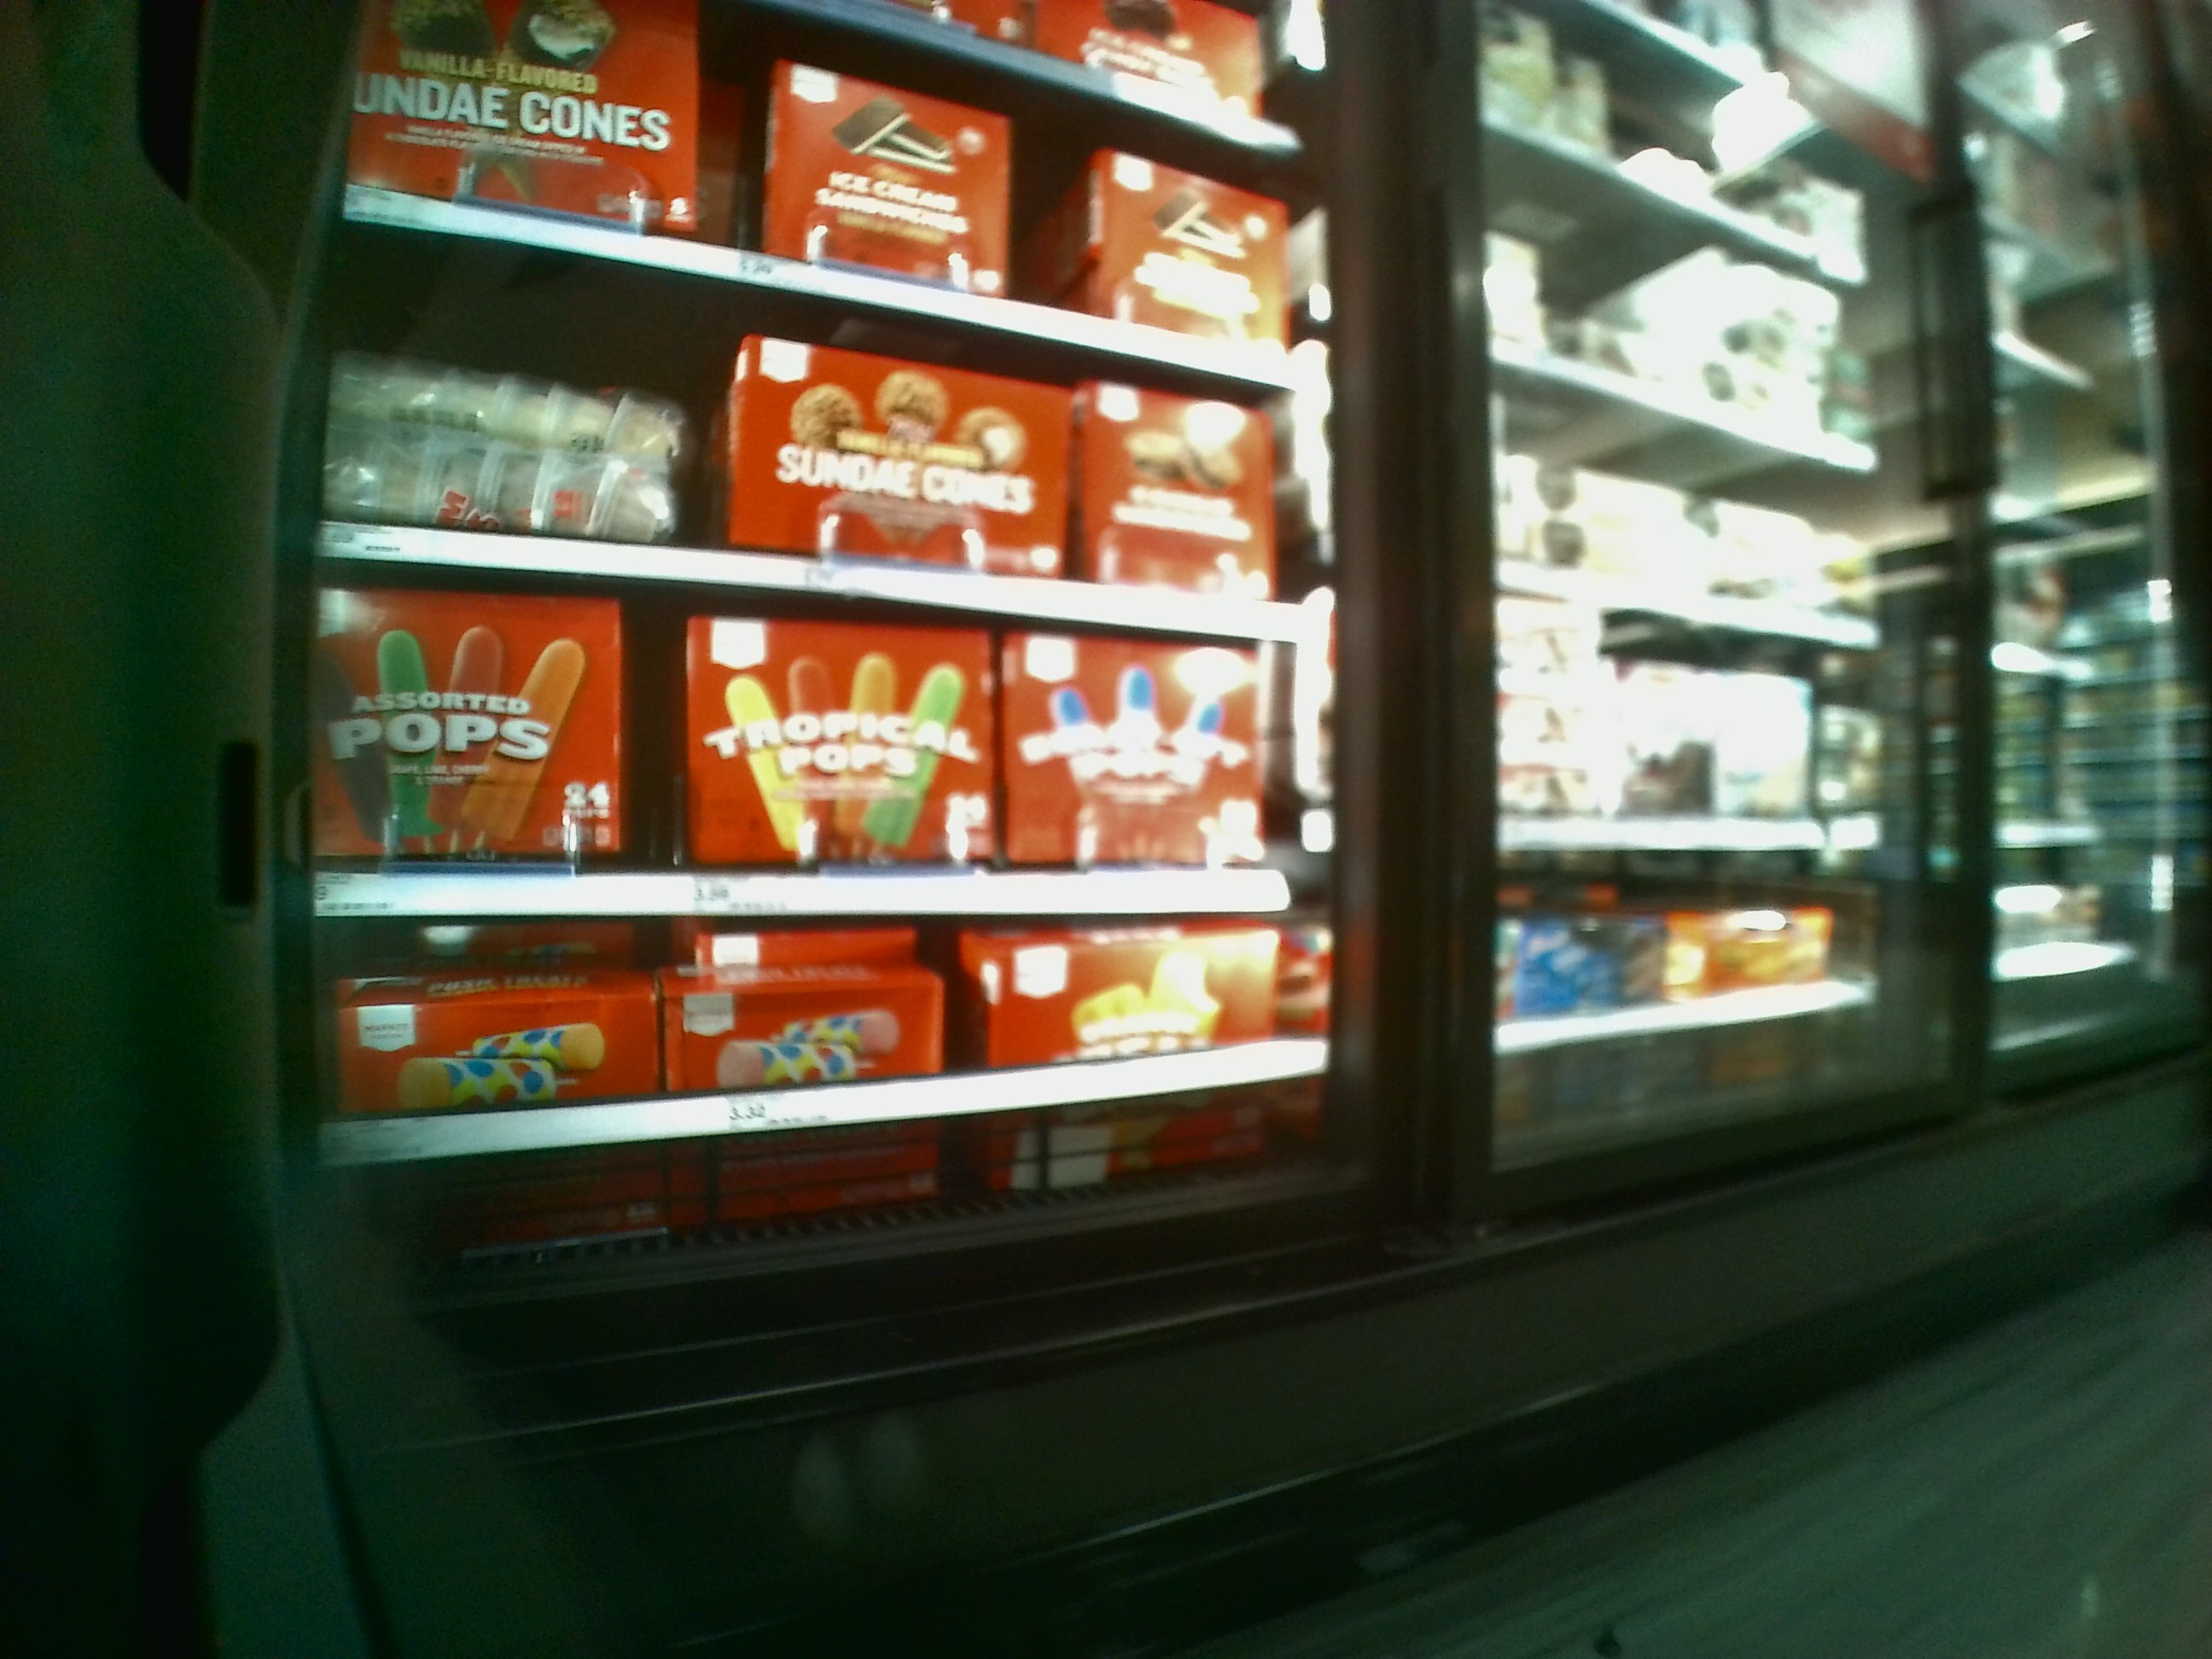shelf: (327, 929, 1334, 1267), (303, 608, 1315, 920), (305, 331, 1305, 622)
